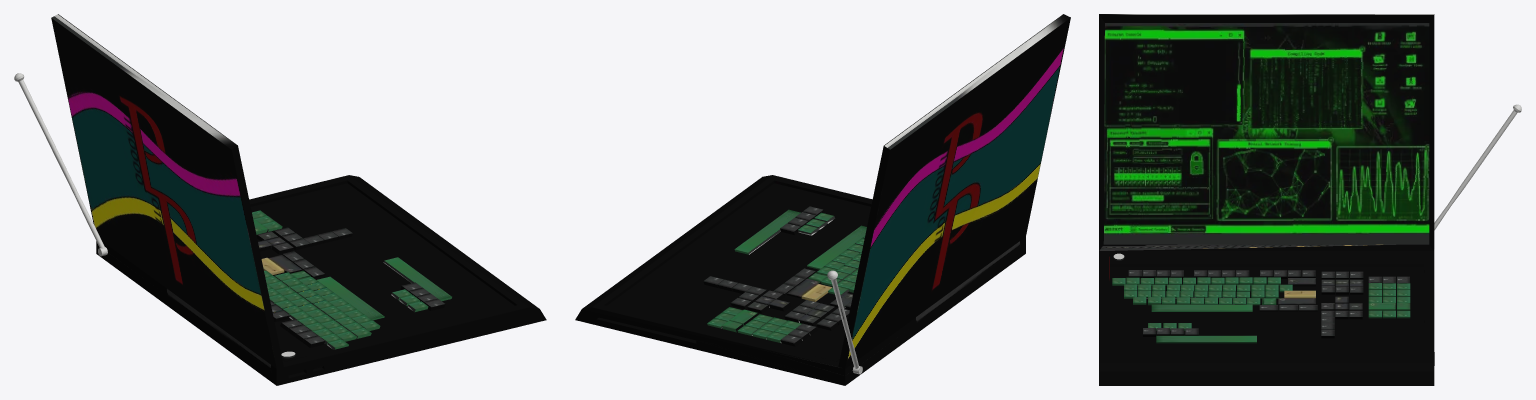
The picture shows the model from 3 angles, left to right: view 1: azimuth 30°, elevation 25°; view 2: azimuth 150°, elevation 25°; view 3: azimuth 270°, elevation 25°; orthographic projection. The views are drawn at different scales.
Parts seen in each view (by area): view 1: Laptop; view 2: Laptop; view 3: Laptop.
Boxes of the visible parts, x1,y1,x2,y2 form: Laptop: (14,14,546,385); Laptop: (575,14,1070,385); Laptop: (1099,14,1521,385).
Bounding box in the file's own units: 2302 × 1741 × 2882.
